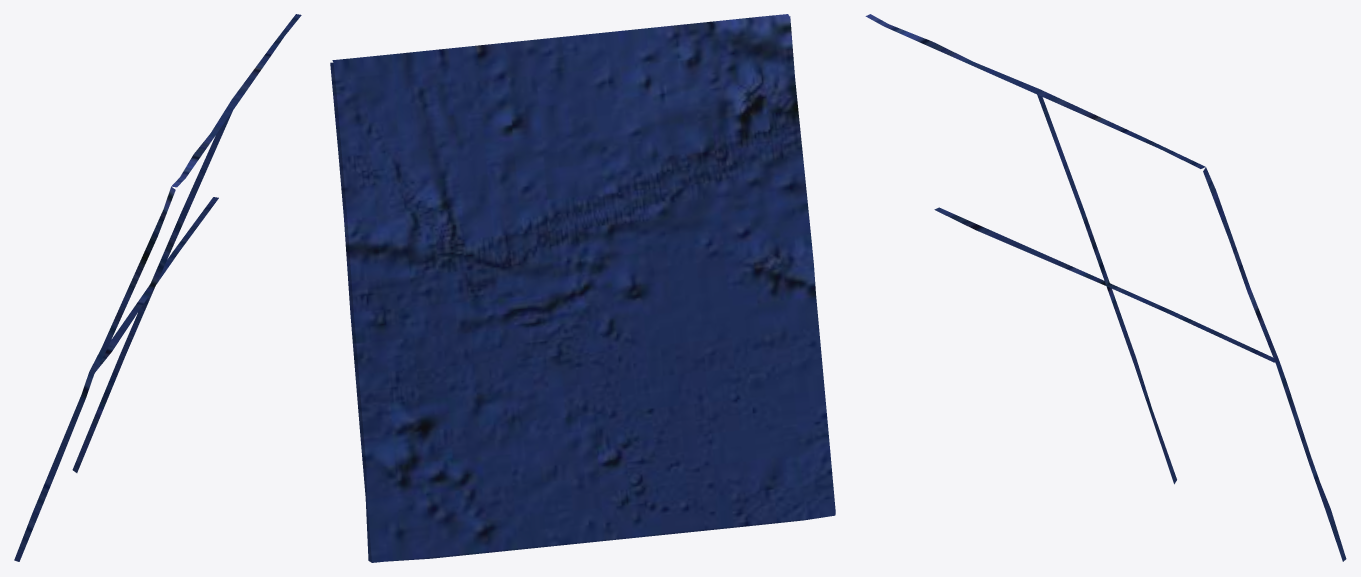
3 views of the same model, side by side, from view 1: azimuth 30°, elevation 25°; view 2: azimuth 150°, elevation 25°; view 3: azimuth 270°, elevation 25° (orthographic). The views are drawn at different scales.
Bounding box in the file's own units: 293625 × 295247 × 285654.
1 material, 1 textured.
